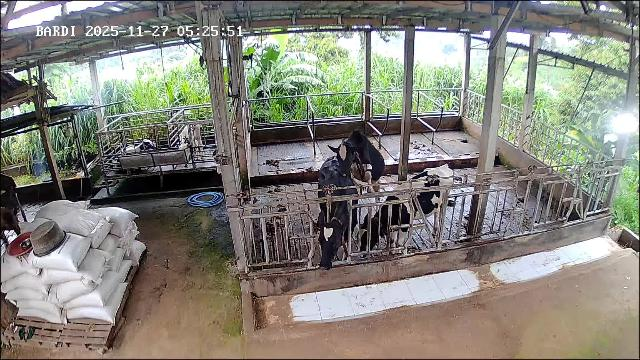mounting: (329, 130, 387, 206)
